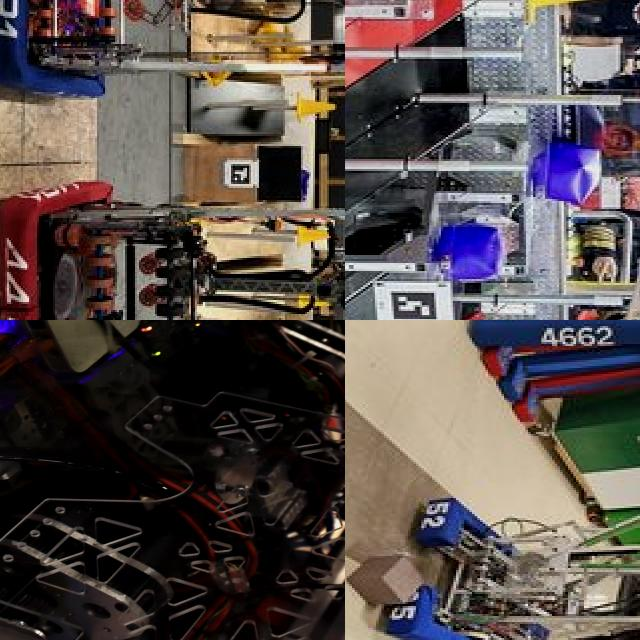FRC-Robots: (0, 320, 345, 640), (345, 104, 640, 320), (354, 456, 640, 640), (0, 186, 345, 320), (0, 0, 345, 102)
